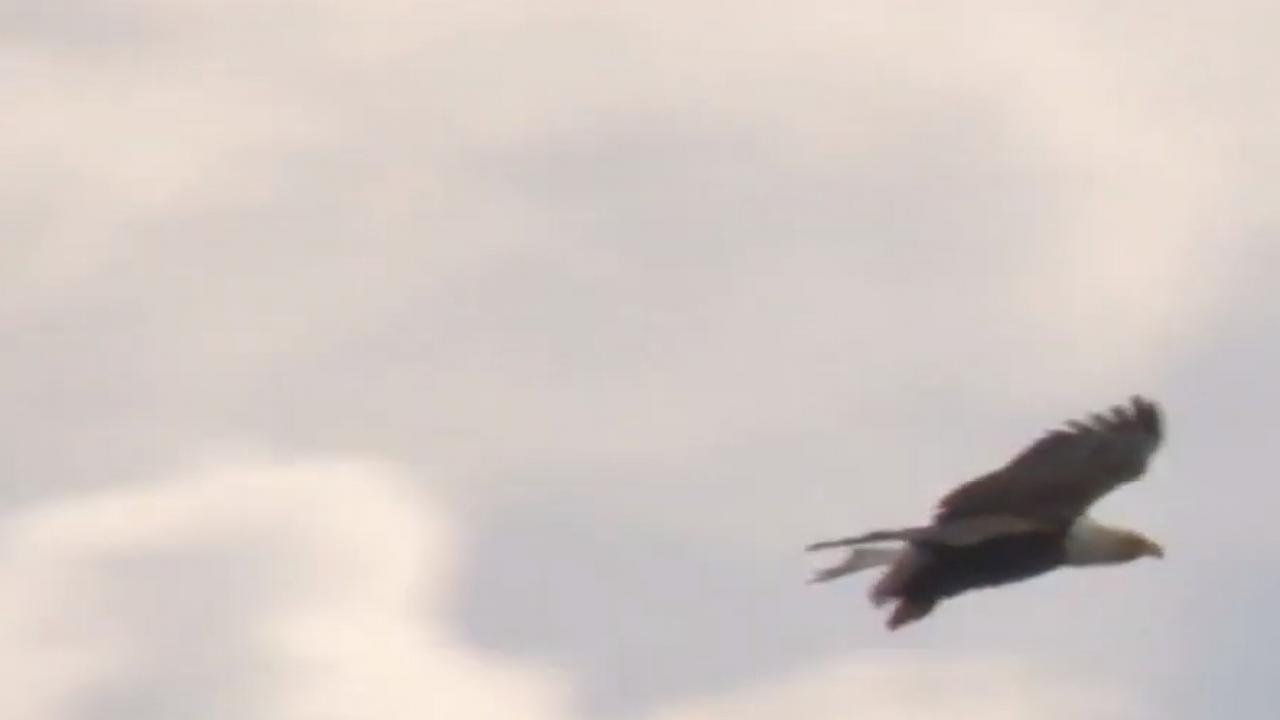Bird: (785, 382, 1192, 639)
